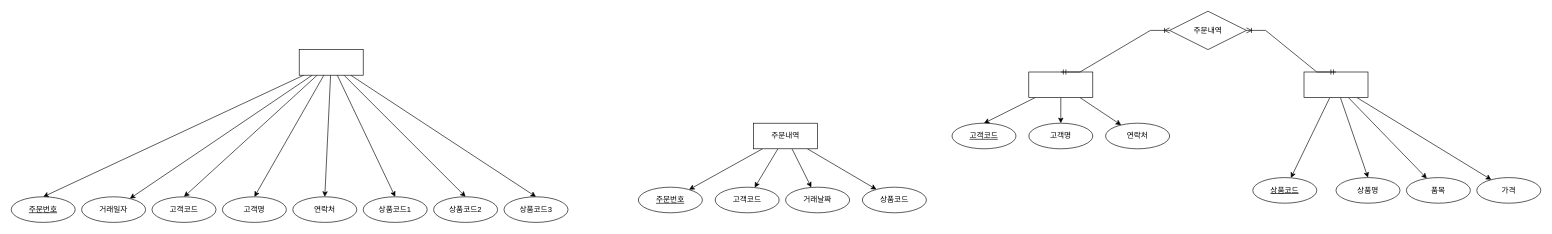
This 1552x234 diagram has some shape labels left out. The shapes that lost their labels are listed below. From the top down, each one's centre as x and y in pixels, then its label:
At point (331, 62): "주문원장".
At point (1060, 84): "고객정보".
At point (1335, 84): "상품정보".
